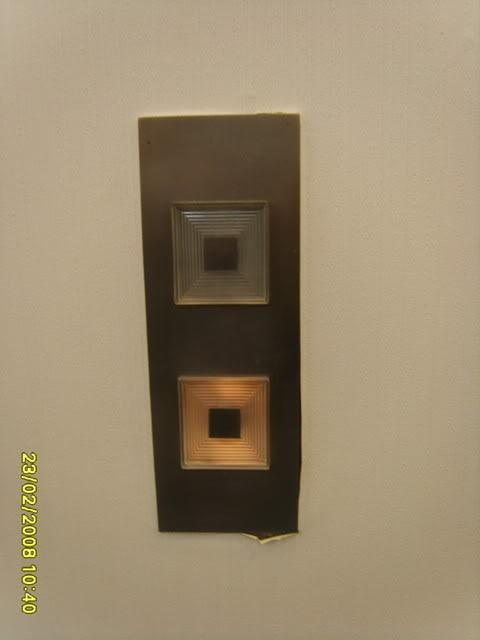empty: (199, 232, 241, 275), (206, 405, 243, 441)
